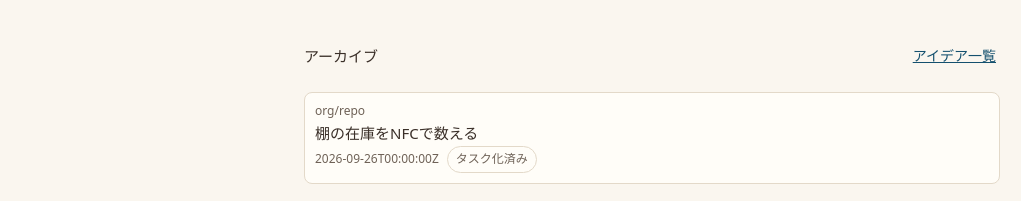
Test: Ideas › returns an archived row to the ideas at once and focuses the idea list link
The width and height of the screenshot is (1021, 201).
Press F10 in the link "org/repo 棚の在庫をNFCで数える 2026-09-26T00:00:00Z タスク化済み", box [304,92,1000,184]
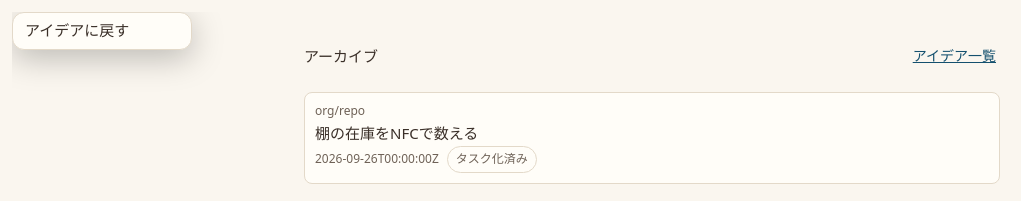
Now the menu items read "アイデアに戻す", in this order
Click the menu item "アイデアに戻す": click(102, 31) [13,13,191,49]
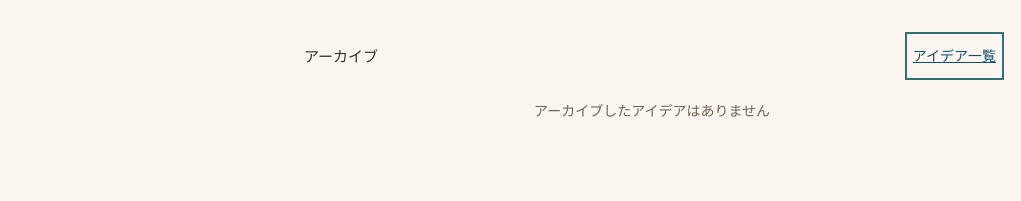
Expected: the link "アイデア一覧" is shown, [913,46,996,65]
Now the text "アーカイブしたアイデアはありません" is shown, box [534,101,770,120]
